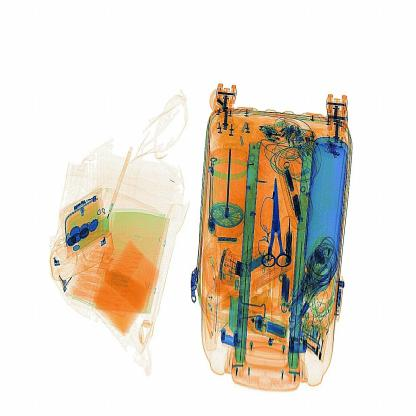gun: (255, 171, 293, 277)
